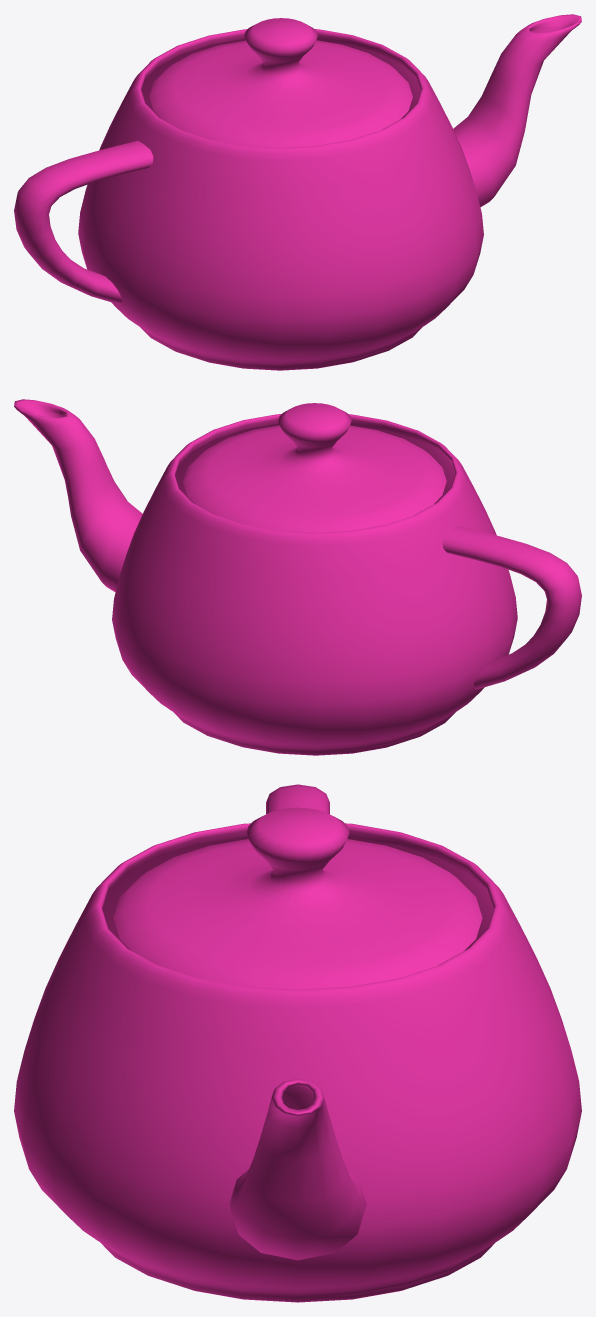
File: Teapot.FBX
3 renders of one model, top to bottom at view 1: azimuth 30°, elevation 25°; view 2: azimuth 150°, elevation 25°; view 3: azimuth 270°, elevation 25°, orthographic. The views are drawn at different scales.
Parts seen in each view (by area): view 1: Teapot001; view 2: Teapot001; view 3: Teapot001.
Boxes of the visible parts, box(x1,y1,x2,y2) form: Teapot001: box(14, 14, 581, 370); Teapot001: box(14, 399, 581, 755); Teapot001: box(14, 784, 581, 1302).
Bounding box in the file's own units: 81.66 × 40.01 × 50.8.
